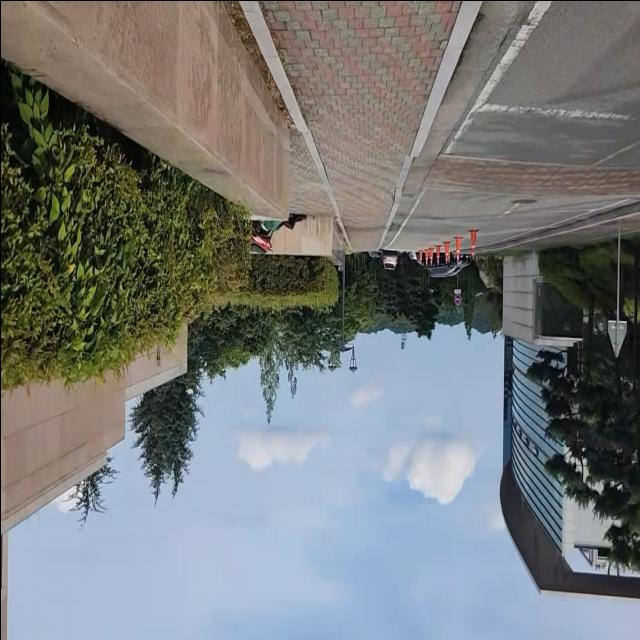obstacle: (377, 247, 400, 273)
road: (382, 0, 640, 250)
sidewalk: (234, 0, 481, 258), (509, 212, 640, 250)
